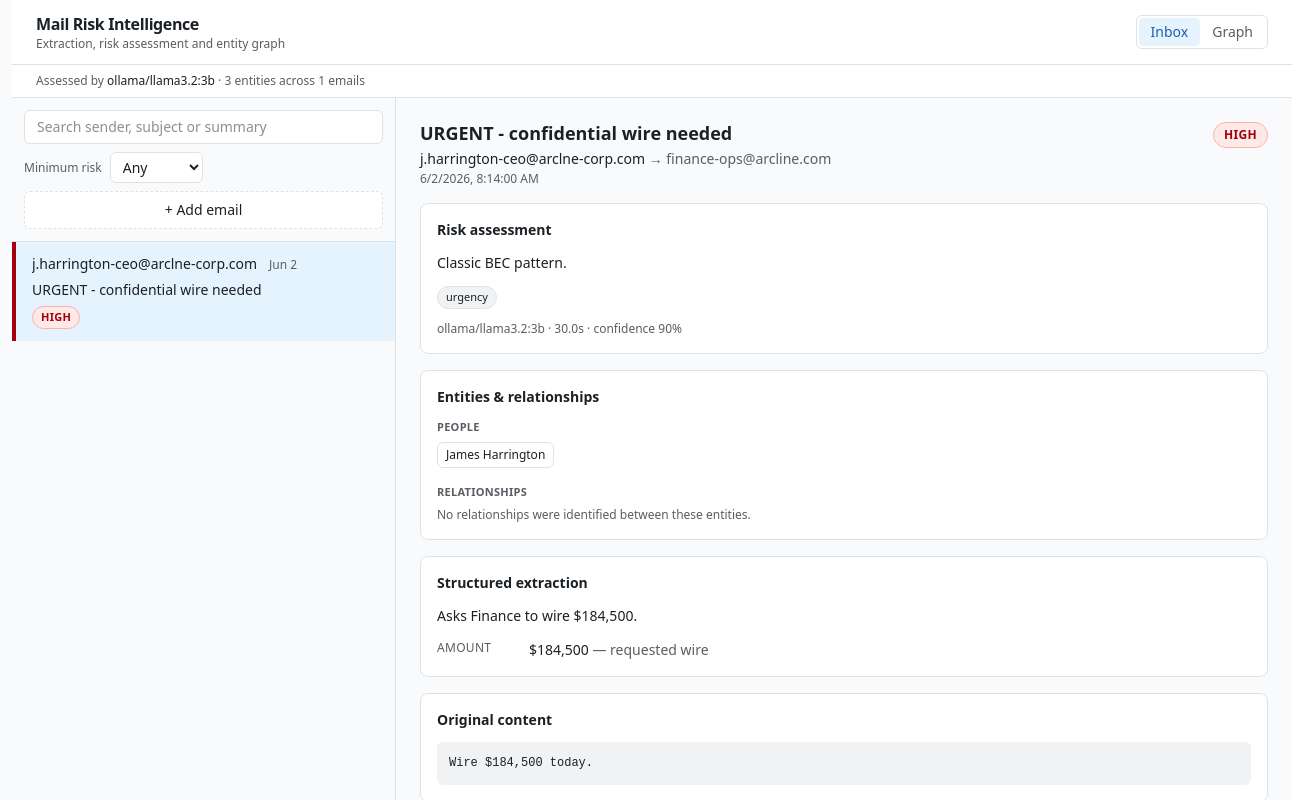
graph view › explains an empty graph rather than showing a blank canvas
Click the button "graph".
click(1233, 32)  # box [1200,18,1265,46]
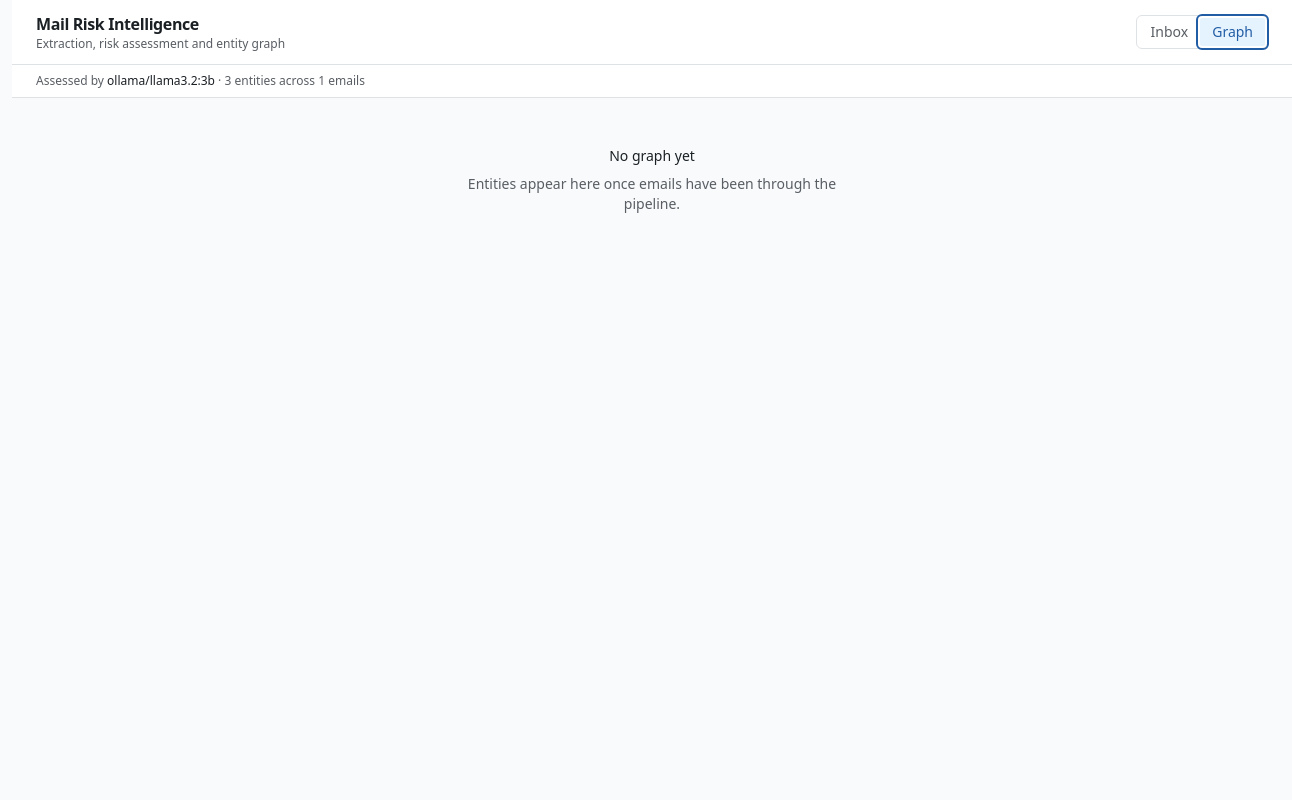
Now the text "No graph yet" is shown, box [609,146,695,166]
